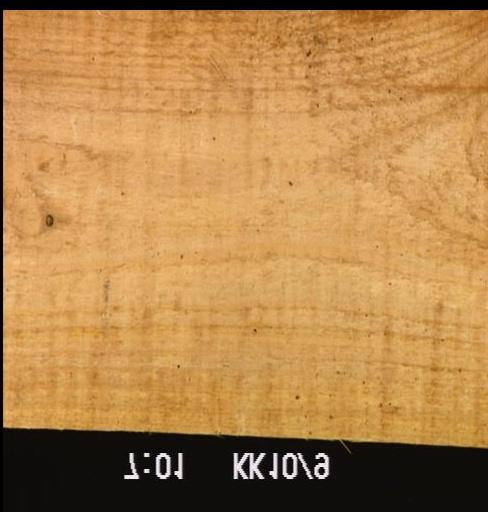dry_knot: (43, 213, 53, 228)
